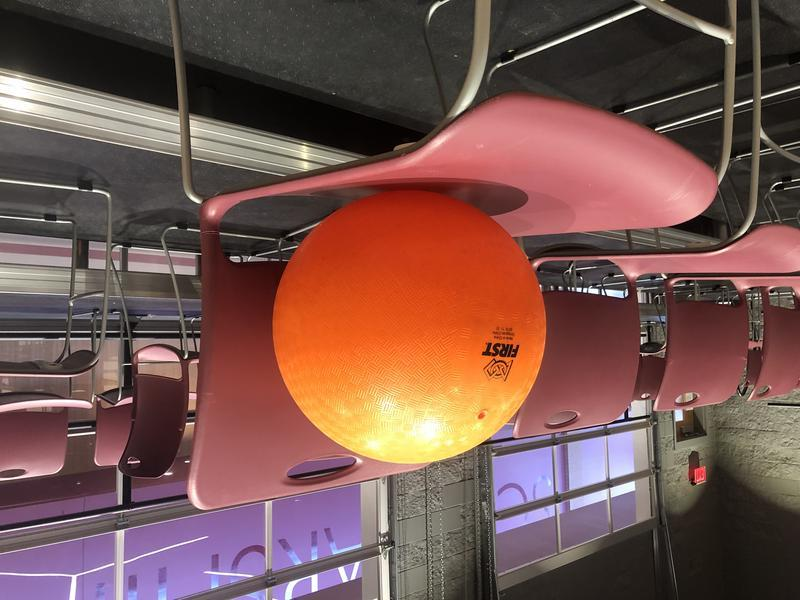ball: (272, 188, 547, 465)
